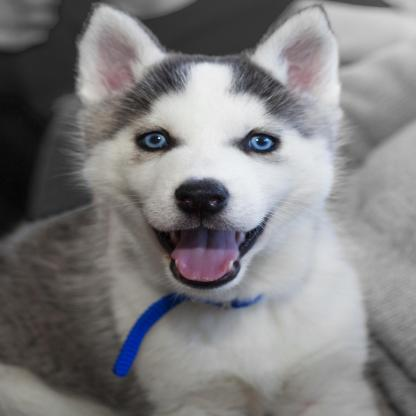husky: (71, 5, 366, 416)
